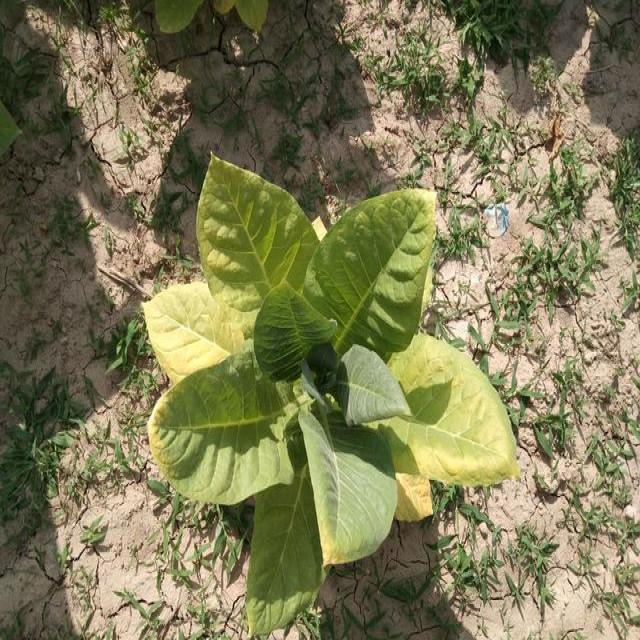crop: (129, 119, 529, 613)
